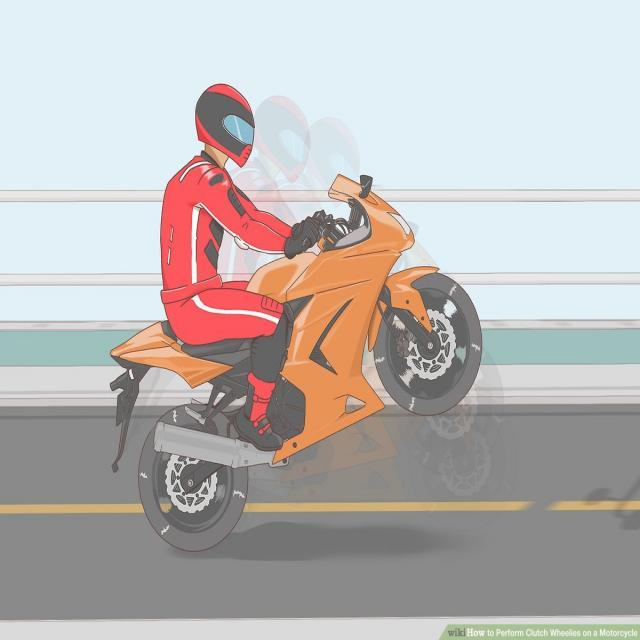Wheeling: (114, 96, 487, 574)
